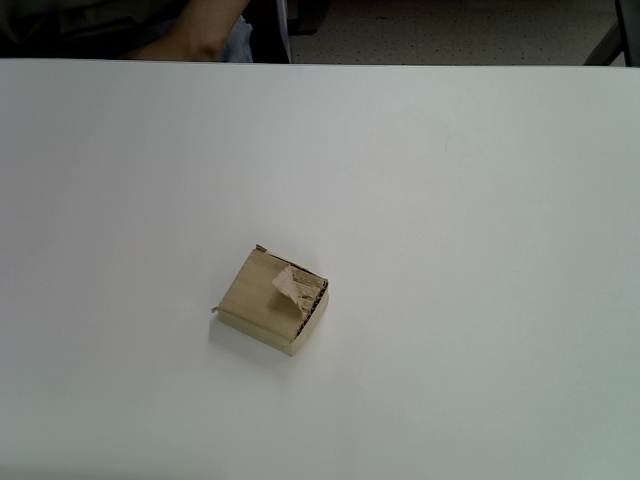defect: (210, 245, 330, 356)
